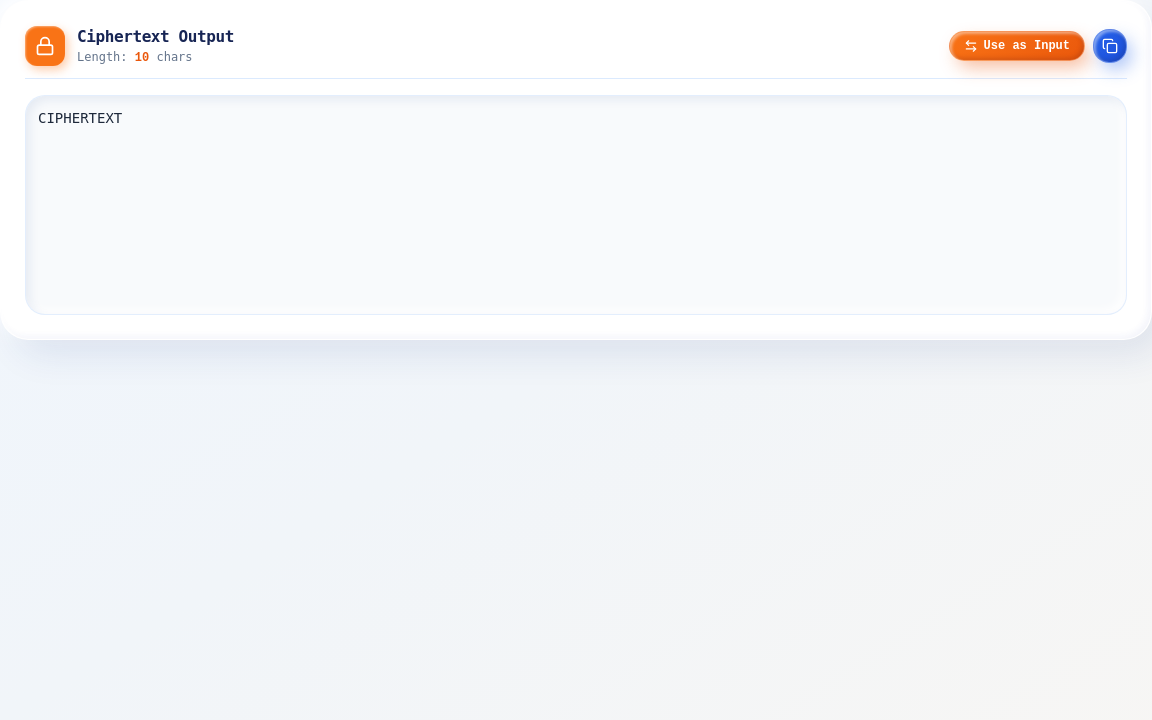
Production Hardening, Error Feedback & Accessibility › surfaces visible error feedback in OutputCard when clipboard write is denied
Click the button named "Copy" at x=1110, y=46, box [1093,28,1127,62]
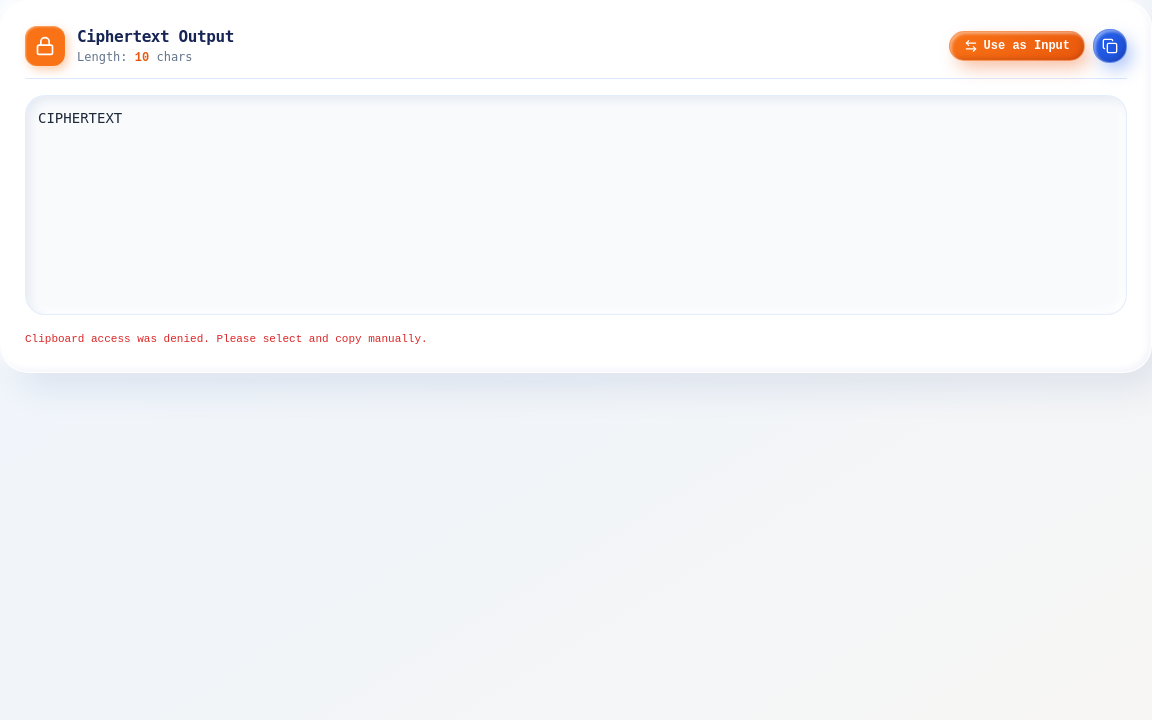
expect the text "Clipboard access was denied. Please select and copy manually." is shown: met, box [25,333,428,345]
